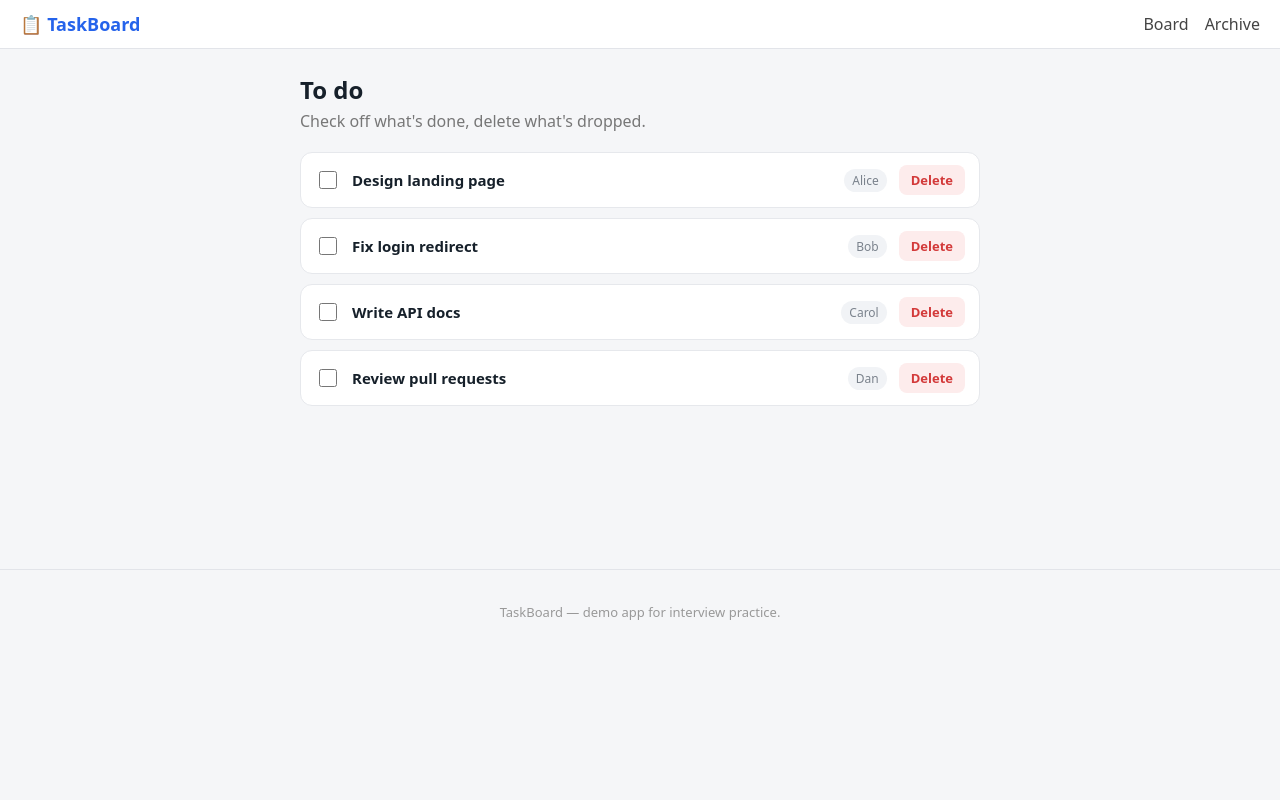
m06 · TaskBoard — list key identity › navigates to the Archive route via the navbar
This screenshot has width=1280, height=800.
Click the link with test id "nav-archive": [1232, 24] box [1205,13,1260,35]
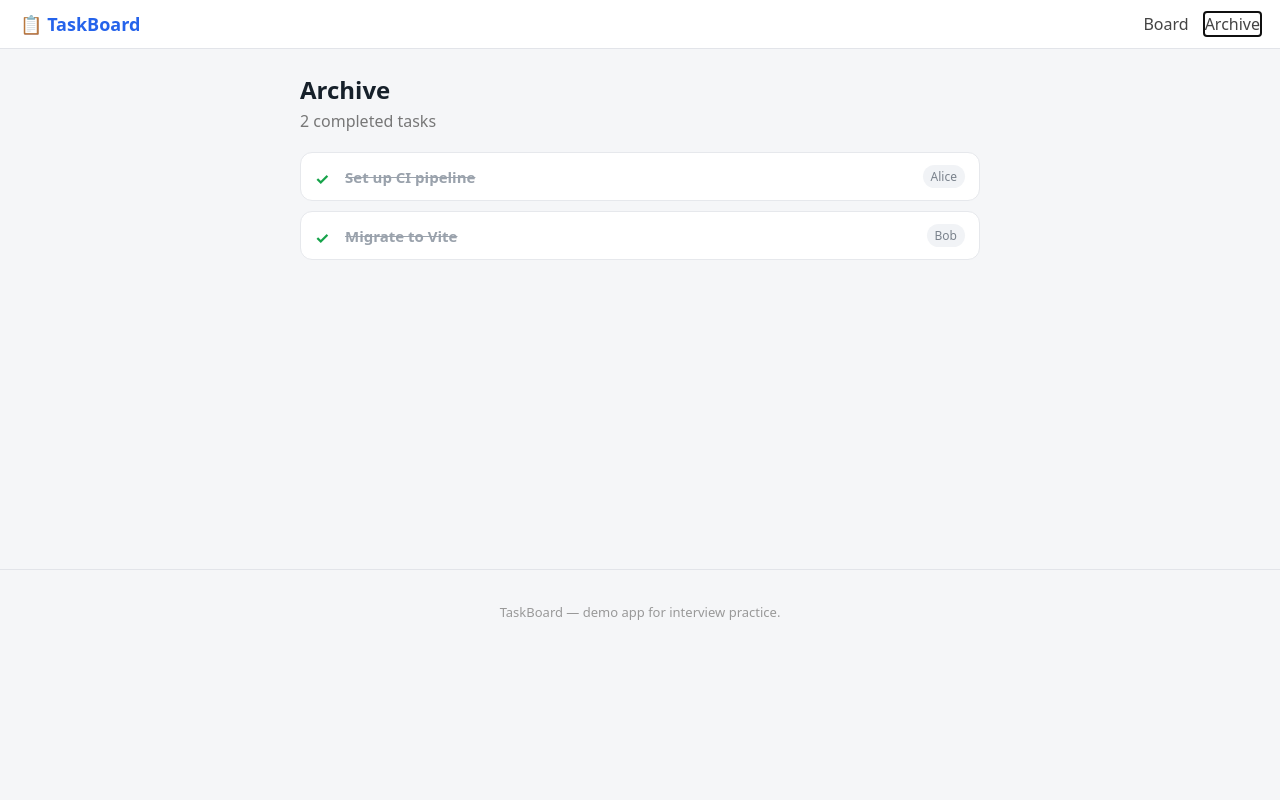
Check: the element with test id "archive-page" is shown, box [280,49,1000,284]
